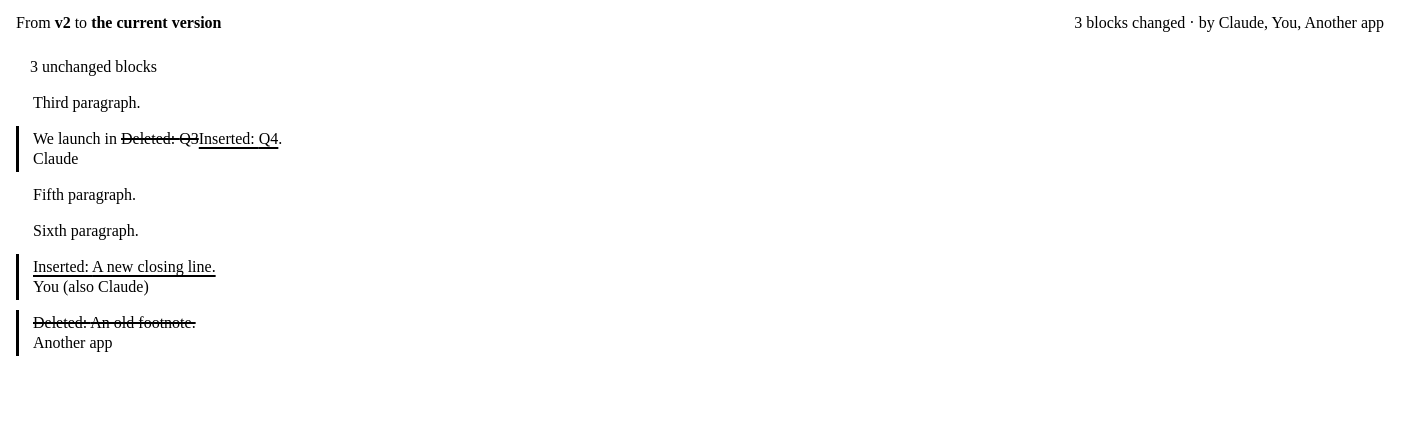
Test: <DiffView>: history diff rendering › a folded run opens on a click
Click the button with class "mdr-hd-fold" at (77, 66), box top-left (16, 54), bottom-right (1384, 80)
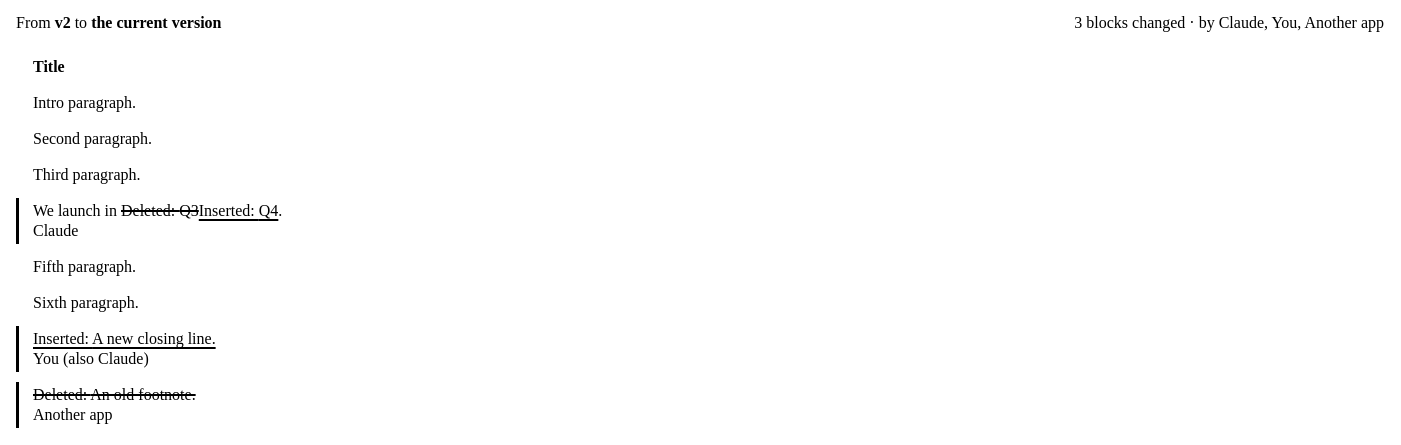
Now the button with class "mdr-hd-fold" is gone
